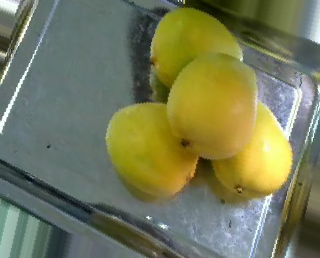Mango: (164, 55, 258, 165), (104, 98, 203, 197), (206, 94, 295, 196), (150, 7, 247, 92)
